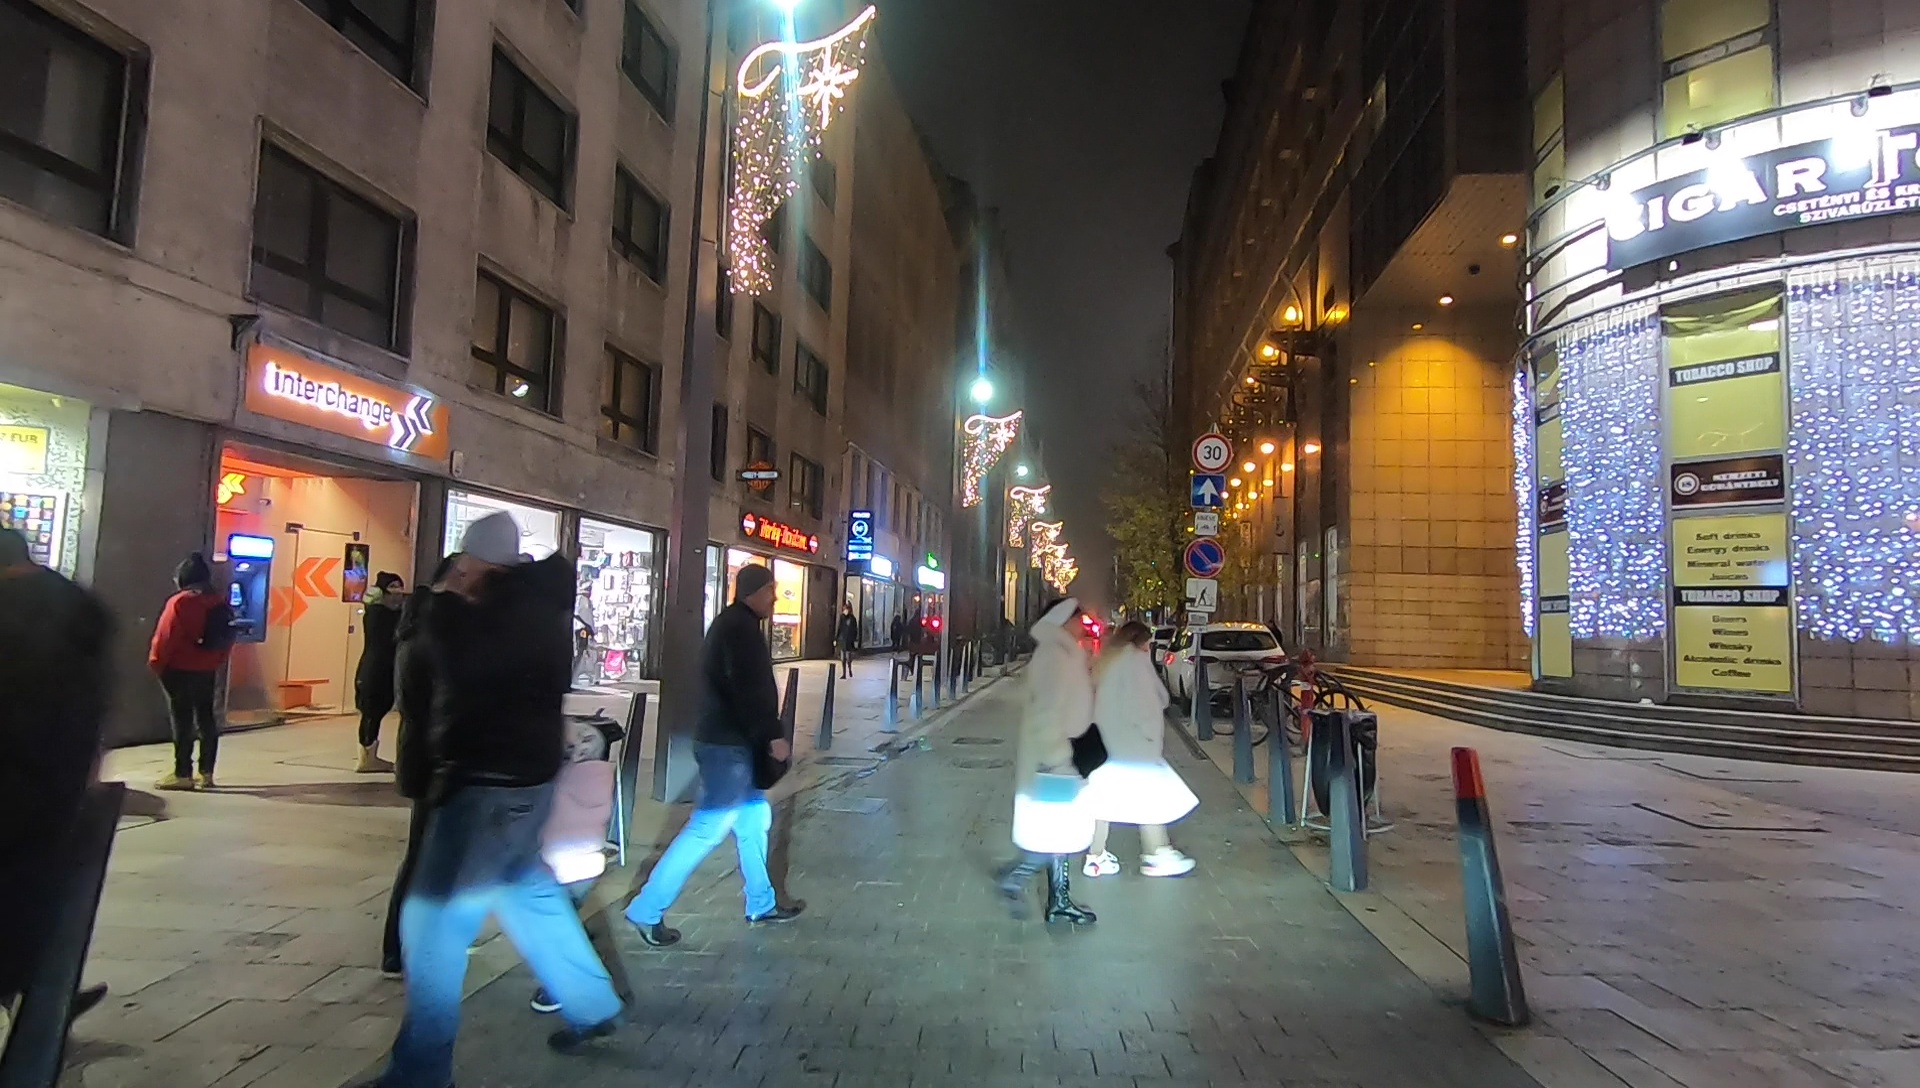person: (401, 530, 631, 1088), (623, 554, 799, 934), (1093, 610, 1197, 886), (1014, 591, 1093, 939), (145, 552, 234, 787), (356, 571, 410, 774), (834, 599, 856, 676)
